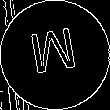M_S: (28, 26, 82, 84)
